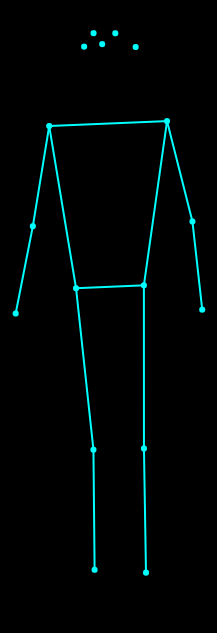mountain: (12, 13, 207, 581)
